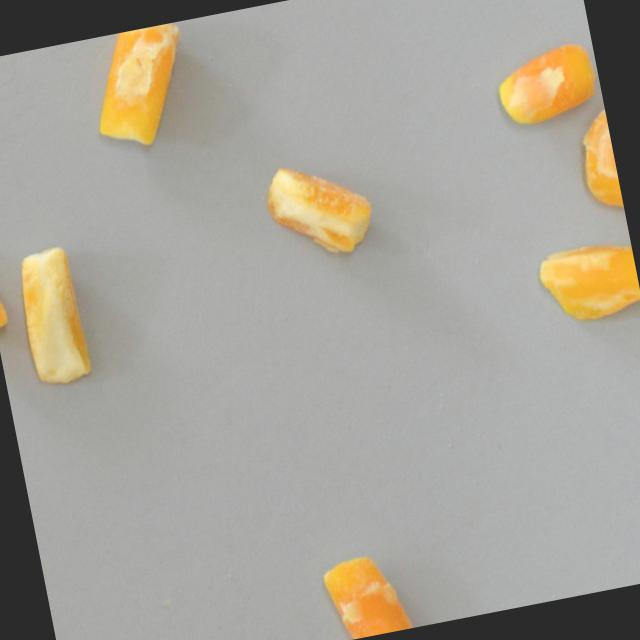pelicula: (80, 21, 204, 158), (262, 147, 384, 268), (5, 236, 98, 390), (488, 36, 604, 130), (535, 234, 640, 329), (319, 544, 421, 640), (570, 102, 625, 219), (0, 254, 17, 343)
